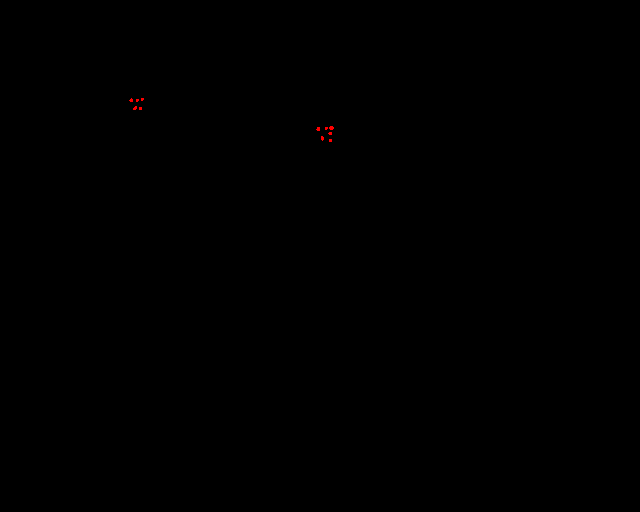Target: (329, 126, 334, 130), (129, 98, 133, 102), (133, 106, 137, 110), (316, 127, 320, 131), (321, 136, 324, 141), (328, 132, 332, 135), (141, 98, 144, 101), (136, 99, 139, 102), (139, 107, 142, 110), (325, 127, 328, 130), (329, 139, 332, 142)
